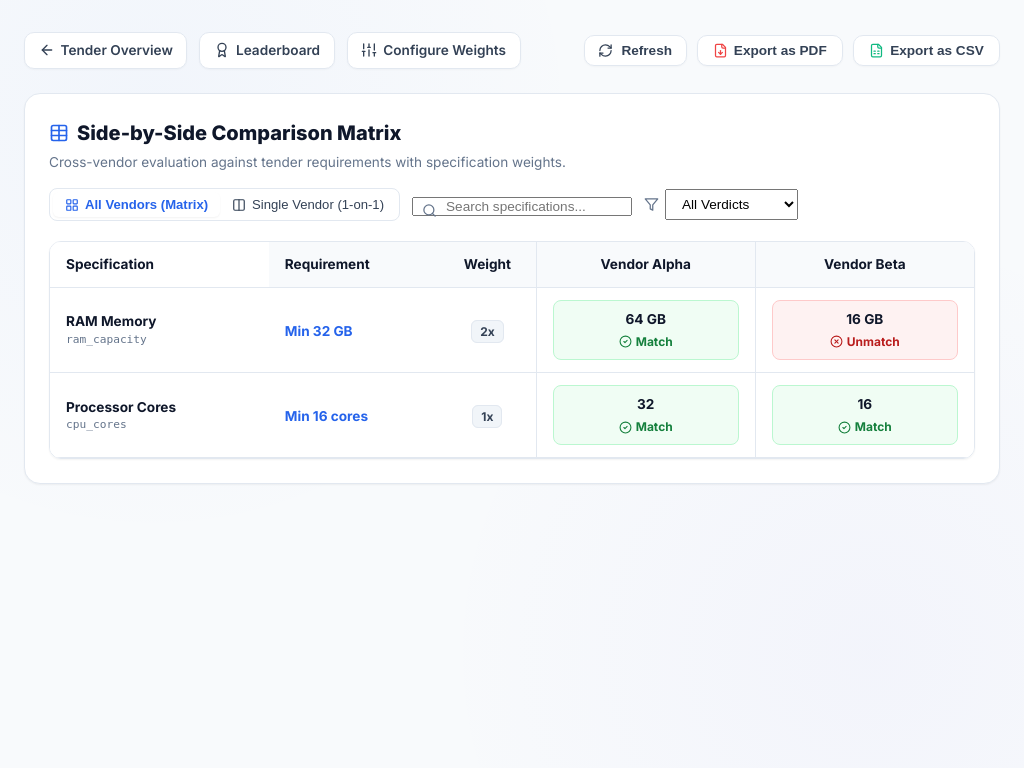
Scenario: ComparisonMatrixPage › switches between All Vendors and Single Vendor views
Expected: the text "All Vendors (Matrix)" is shown, [85, 197, 208, 212]
Expected: the text "Single Vendor (1-on-1)" is shown, [252, 197, 384, 212]
Click the button "Single Vendor (1-on-1)" at {"x": 308, "y": 205}, box [220, 192, 396, 217]
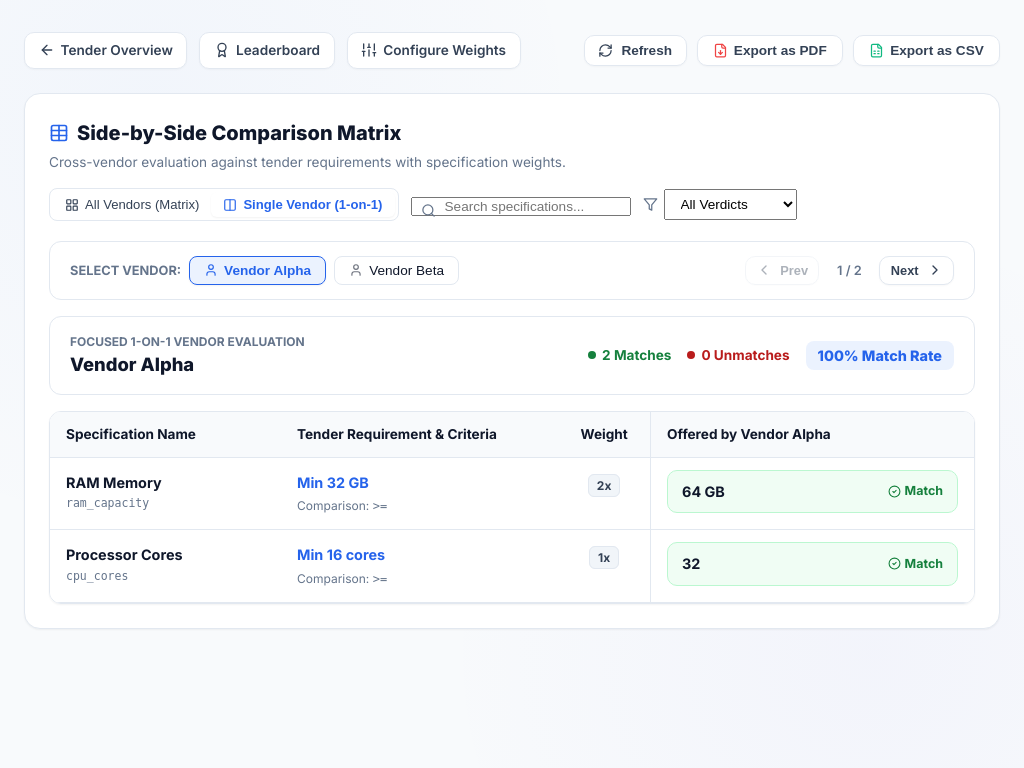
Expected: the text "Focused 1-on-1 Vendor Evaluation" is shown, [70, 332, 305, 350]
Expected: the column heading "Tender Requirement & Criteria" is shown, [281, 412, 558, 457]
